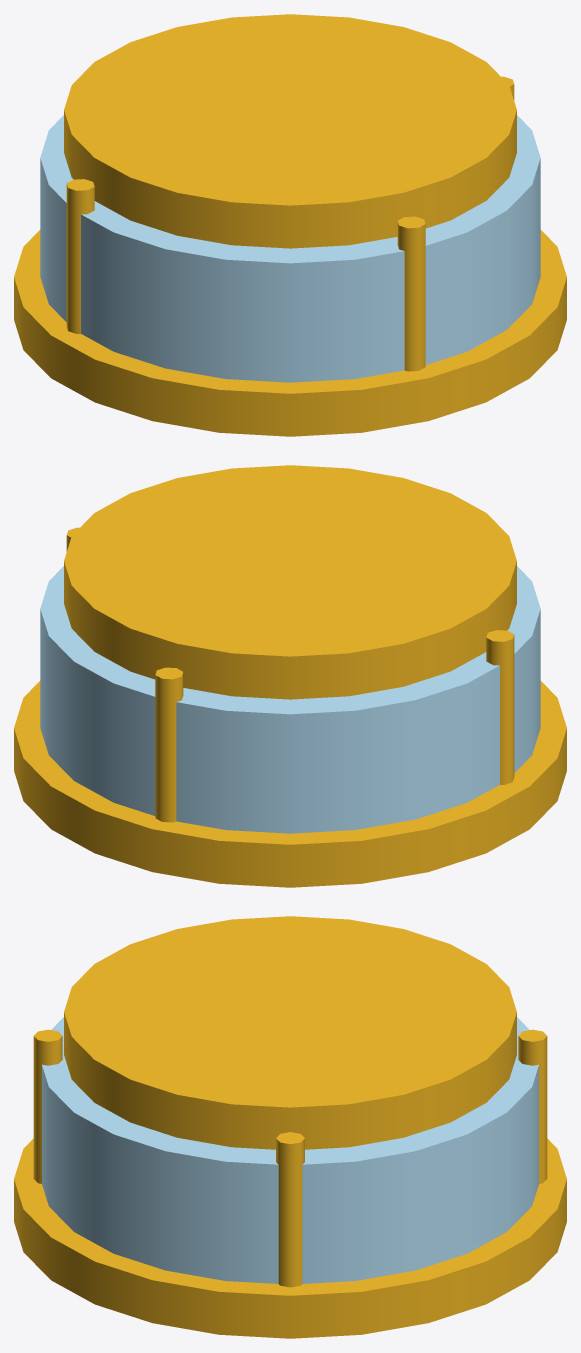
Rendered from toy_castle_hourglass_tower.glb.
3 renders of one model, top to bottom at view 1: azimuth 30°, elevation 25°; view 2: azimuth 150°, elevation 25°; view 3: azimuth 270°, elevation 25°, orthographic.
Visible parts, largest first — view 1: solid_4, solid_2, solid_1, solid_6, solid_7; view 2: solid_4, solid_2, solid_1, solid_8, solid_7; view 3: solid_4, solid_2, solid_1, solid_5, solid_6, solid_8.
Part boxes in pixels (x1,y1,x2,y2): solid_4: [64, 14, 516, 248]; solid_2: [40, 115, 540, 382]; solid_1: [14, 230, 566, 436]; solid_6: [397, 216, 425, 371]; solid_7: [66, 179, 94, 333]; solid_4: [64, 465, 516, 699]; solid_2: [40, 566, 540, 833]; solid_1: [14, 681, 566, 887]; solid_8: [155, 667, 183, 822]; solid_7: [486, 630, 514, 784]; solid_4: [64, 916, 516, 1149]; solid_2: [42, 1017, 538, 1283]; solid_1: [14, 1138, 566, 1338]; solid_5: [276, 1132, 304, 1287]; solid_6: [33, 1029, 62, 1183]; solid_8: [518, 1029, 547, 1183].
Bounding box in the file's own units: 2.1 × 0.88 × 2.1.
